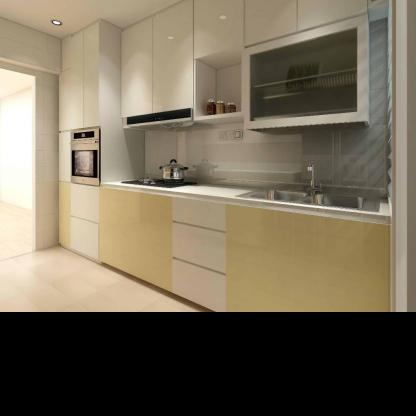Cabinet: (58, 181, 393, 310)
